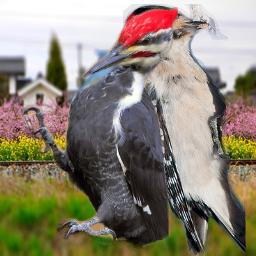Woodpecker: (21, 7, 178, 249), (123, 4, 246, 256)
